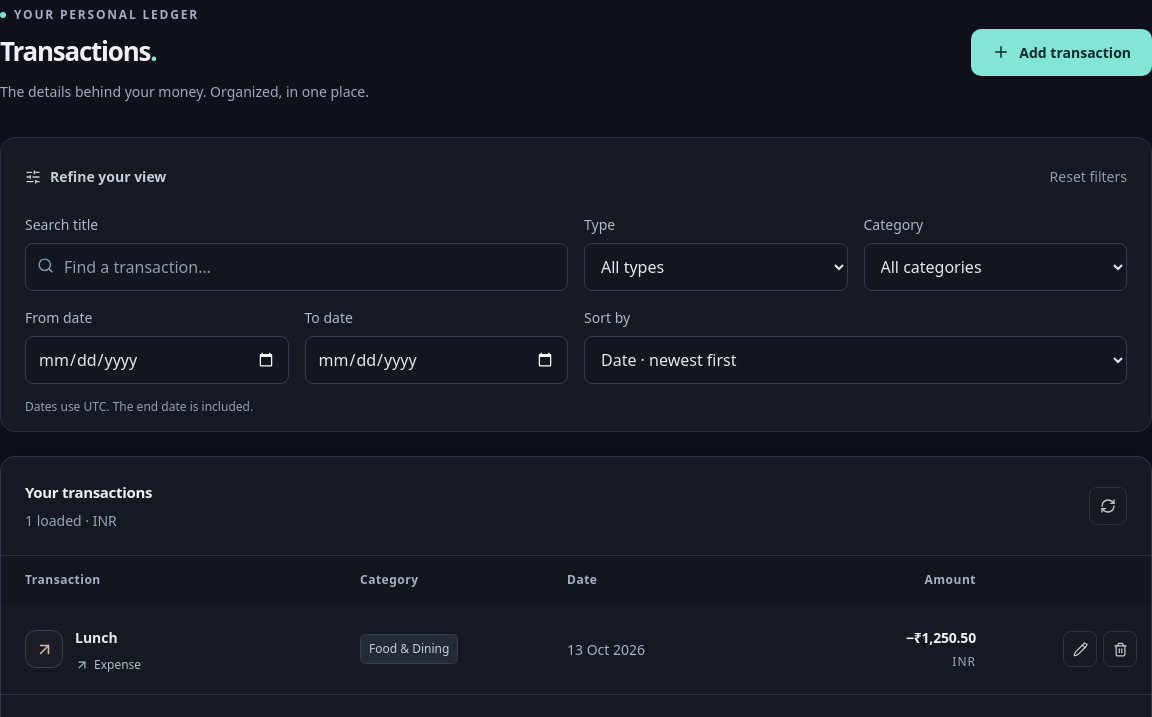
Scenario: fetches and displays actual ledger data, type, currency and notes detail
Expected: the table is shown, [1,556,1151,694]
Expected: the text "₹1,250.50" is shown, [914,628,976,647]
Step 1. Click the button "Lunch" → click(96, 638), box [75,624,118,652]
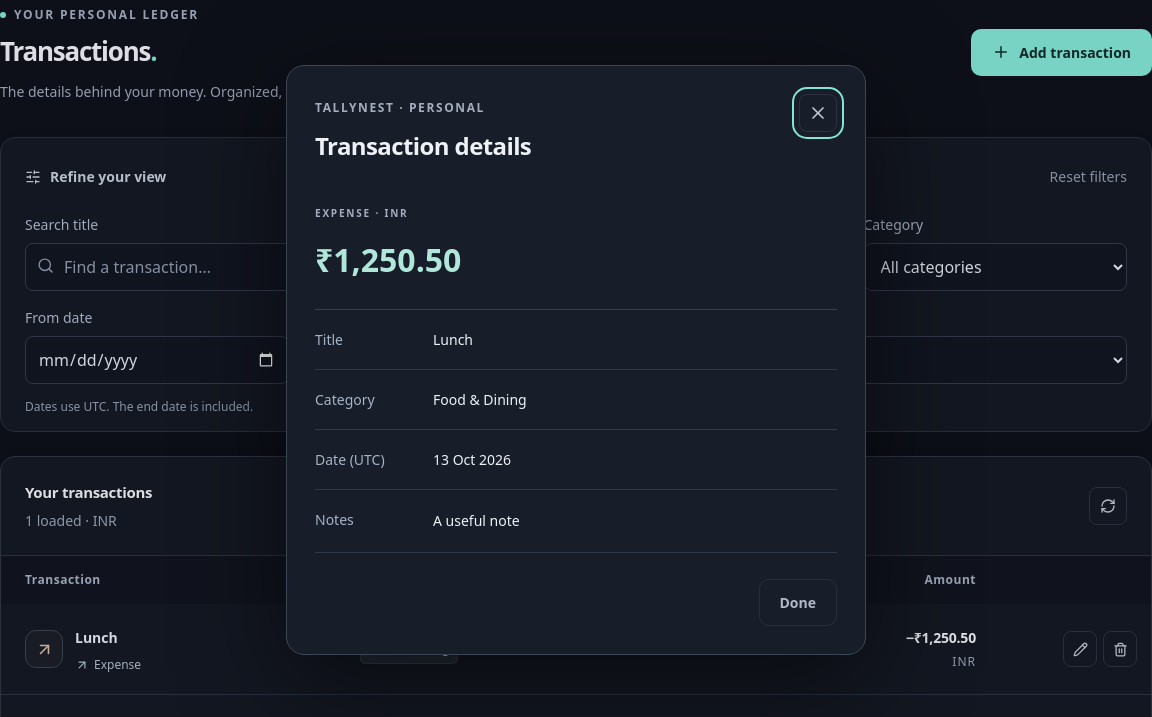
Now the text "A useful note" is shown, box [433,511,520,530]
